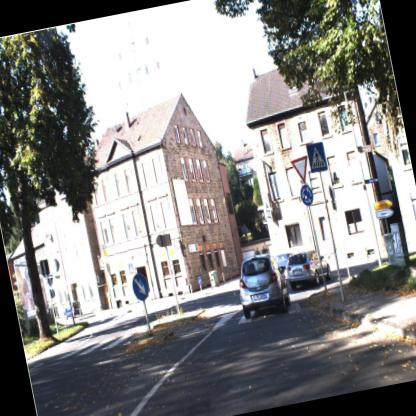mandatory: (127, 264, 156, 305), (303, 140, 330, 175), (292, 181, 318, 208)
other: (290, 155, 312, 183)
